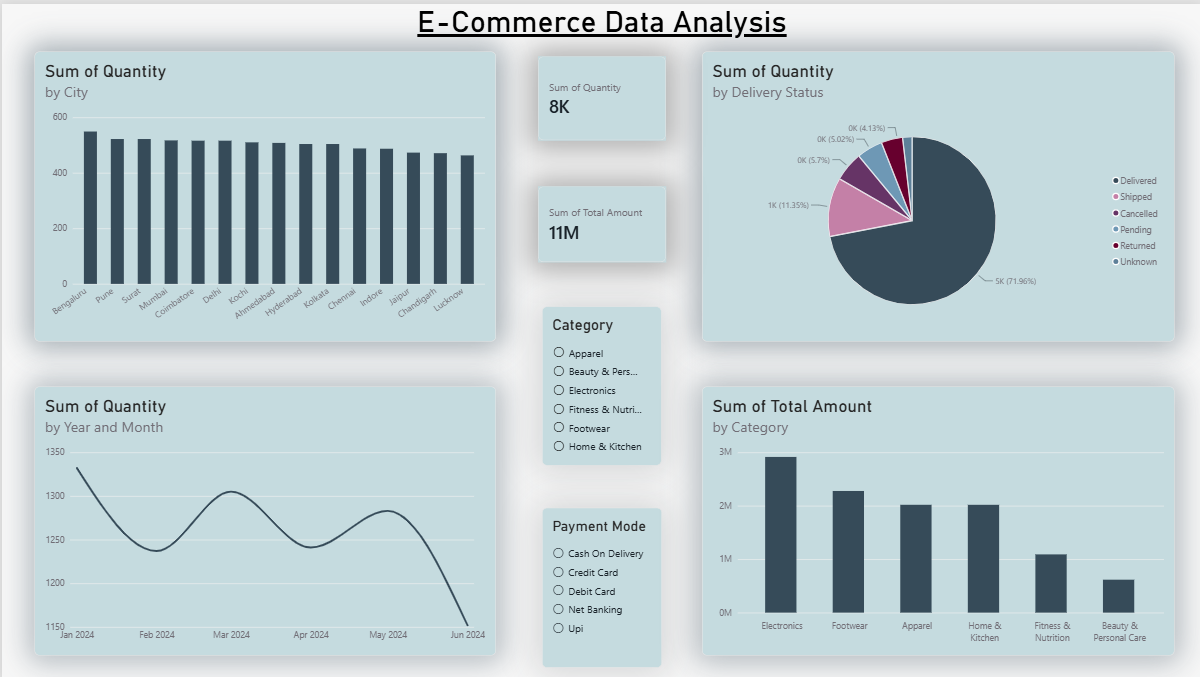

The page's visual inventory and layout, read from the dashboard file:
{"tool":"powerbi","page":{"name":"Page 1","canvas":[1920,1080],"ordinal":0},"visuals":[{"type":"clusteredColumnChart","fields":{"Category":["cleaned_ecommerce_data.City"],"Y":["Sum(cleaned_ecommerce_data.Quantity)"]},"box":[52,76,738,464],"z":0},{"type":"pieChart","fields":{"Category":["cleaned_ecommerce_data.Delivery Status"],"Y":["Sum(cleaned_ecommerce_data.Quantity)"]},"box":[1120,76,756,464],"z":1000},{"type":"lineChart","fields":{"Category":["cleaned_ecommerce_data.Order Date.Variation.Date Hierarchy.Year","cleaned_ecommerce_data.Order Date.Variation.Date Hierarchy.Month"],"Y":["Sum(cleaned_ecommerce_data.Quantity)"]},"box":[52,612,738,430],"z":2000},{"type":"listSlicer","fields":{"Values":["cleaned_ecommerce_data.Category"]},"box":[864,484,191.4,254.3],"z":3000},{"type":"listSlicer","fields":{"Values":["cleaned_ecommerce_data.Payment Mode"]},"box":[864,806,192,256],"z":4000},{"type":"cardVisual","fields":{"Data":["Sum(cleaned_ecommerce_data.Quantity)"]},"box":[858,84,204,134],"z":5000},{"type":"cardVisual","fields":{"Data":["Sum(cleaned_ecommerce_data.Total Amount)"]},"box":[858,292,204.5,121.2],"z":6000},{"type":"lineStackedColumnComboChart","fields":{"Category":["cleaned_ecommerce_data.Category"],"Y":["Sum(cleaned_ecommerce_data.Total Amount)"]},"box":[1120,612,756,430],"z":7000},{"type":"textbox","box":[596,0,728,67],"z":8000}]}

Visuals, with their boxes in screenshot pixels (x1, y1, x2, y2), scaled from the page's 1920x1080 canvas onto the 1200x677 screenshot:
clusteredColumnChart - cleaned_ecommerce_data.City x Sum(cleaned_ecommerce_data.Quantity): <box>32,48,494,338</box>
pieChart - cleaned_ecommerce_data.Delivery Status x Sum(cleaned_ecommerce_data.Quantity): <box>700,48,1172,338</box>
lineChart - cleaned_ecommerce_data.Order Date.Variation.Date Hierarchy.Year x cleaned_ecommerce_data.Order Date.Variation.Date Hierarchy.Month: <box>32,384,494,653</box>
listSlicer - cleaned_ecommerce_data.Category: <box>540,303,660,463</box>
listSlicer - cleaned_ecommerce_data.Payment Mode: <box>540,505,660,666</box>
cardVisual - Sum(cleaned_ecommerce_data.Quantity): <box>536,53,664,137</box>
cardVisual - Sum(cleaned_ecommerce_data.Total Amount): <box>536,183,664,259</box>
lineStackedColumnComboChart - cleaned_ecommerce_data.Category x Sum(cleaned_ecommerce_data.Total Amount): <box>700,384,1172,653</box>
textbox: <box>372,0,828,42</box>
